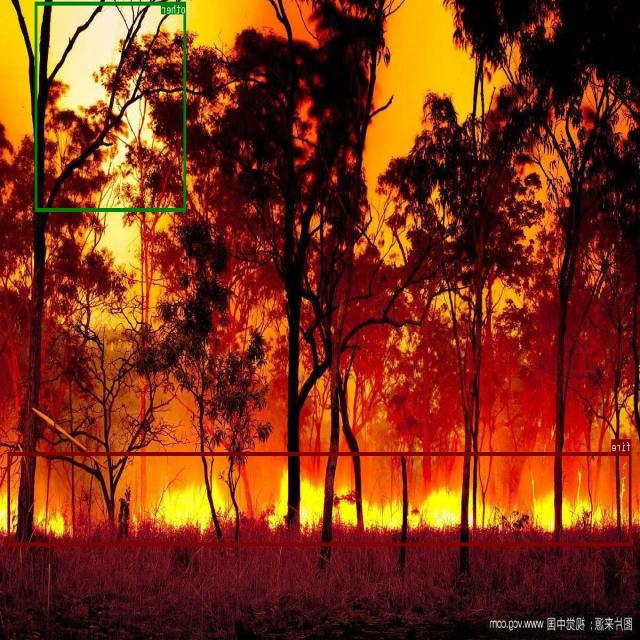fire: (8, 452, 632, 545)
other: (36, 1, 186, 211)
